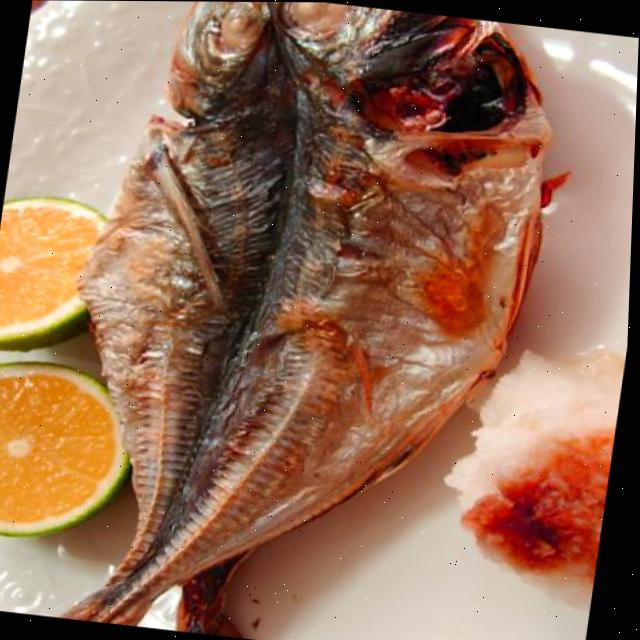熟制海鲜: (27, 0, 578, 640)
